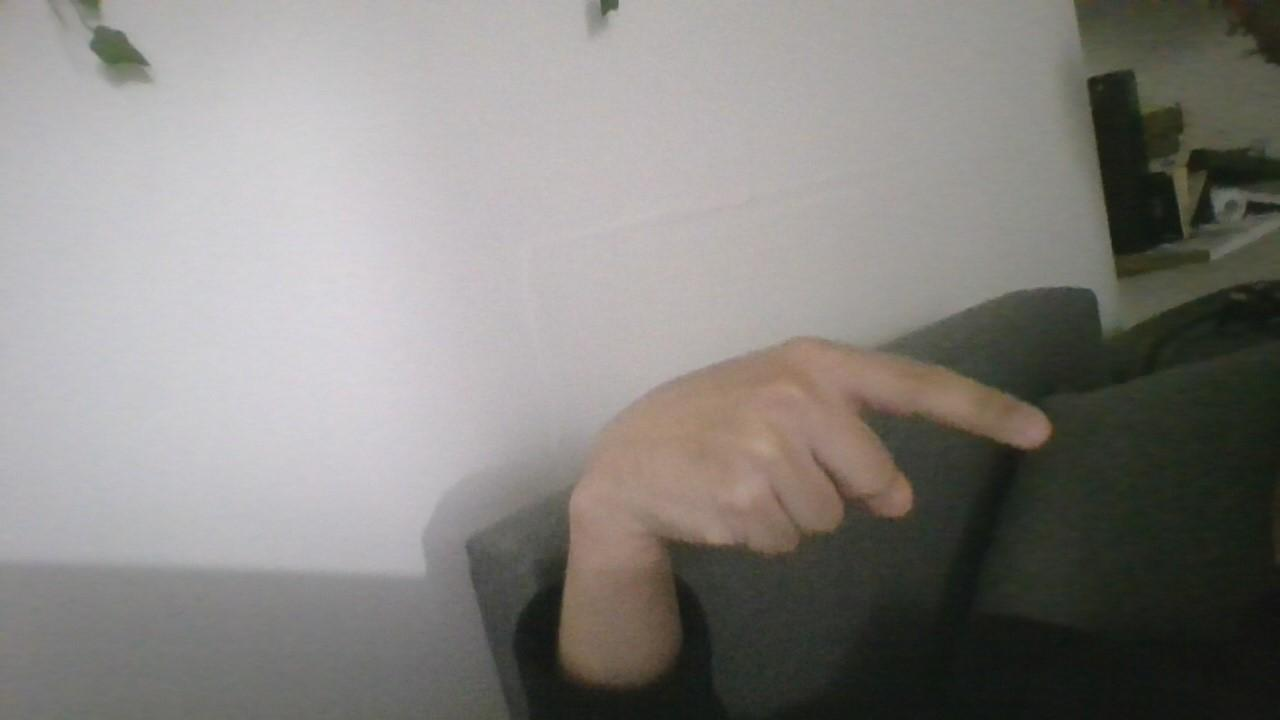right: (552, 309, 1072, 586)
